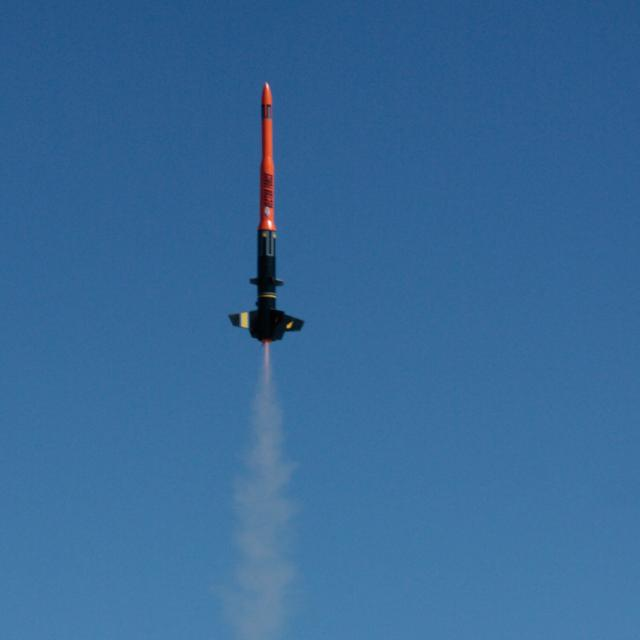Rocket: (226, 81, 306, 346)
